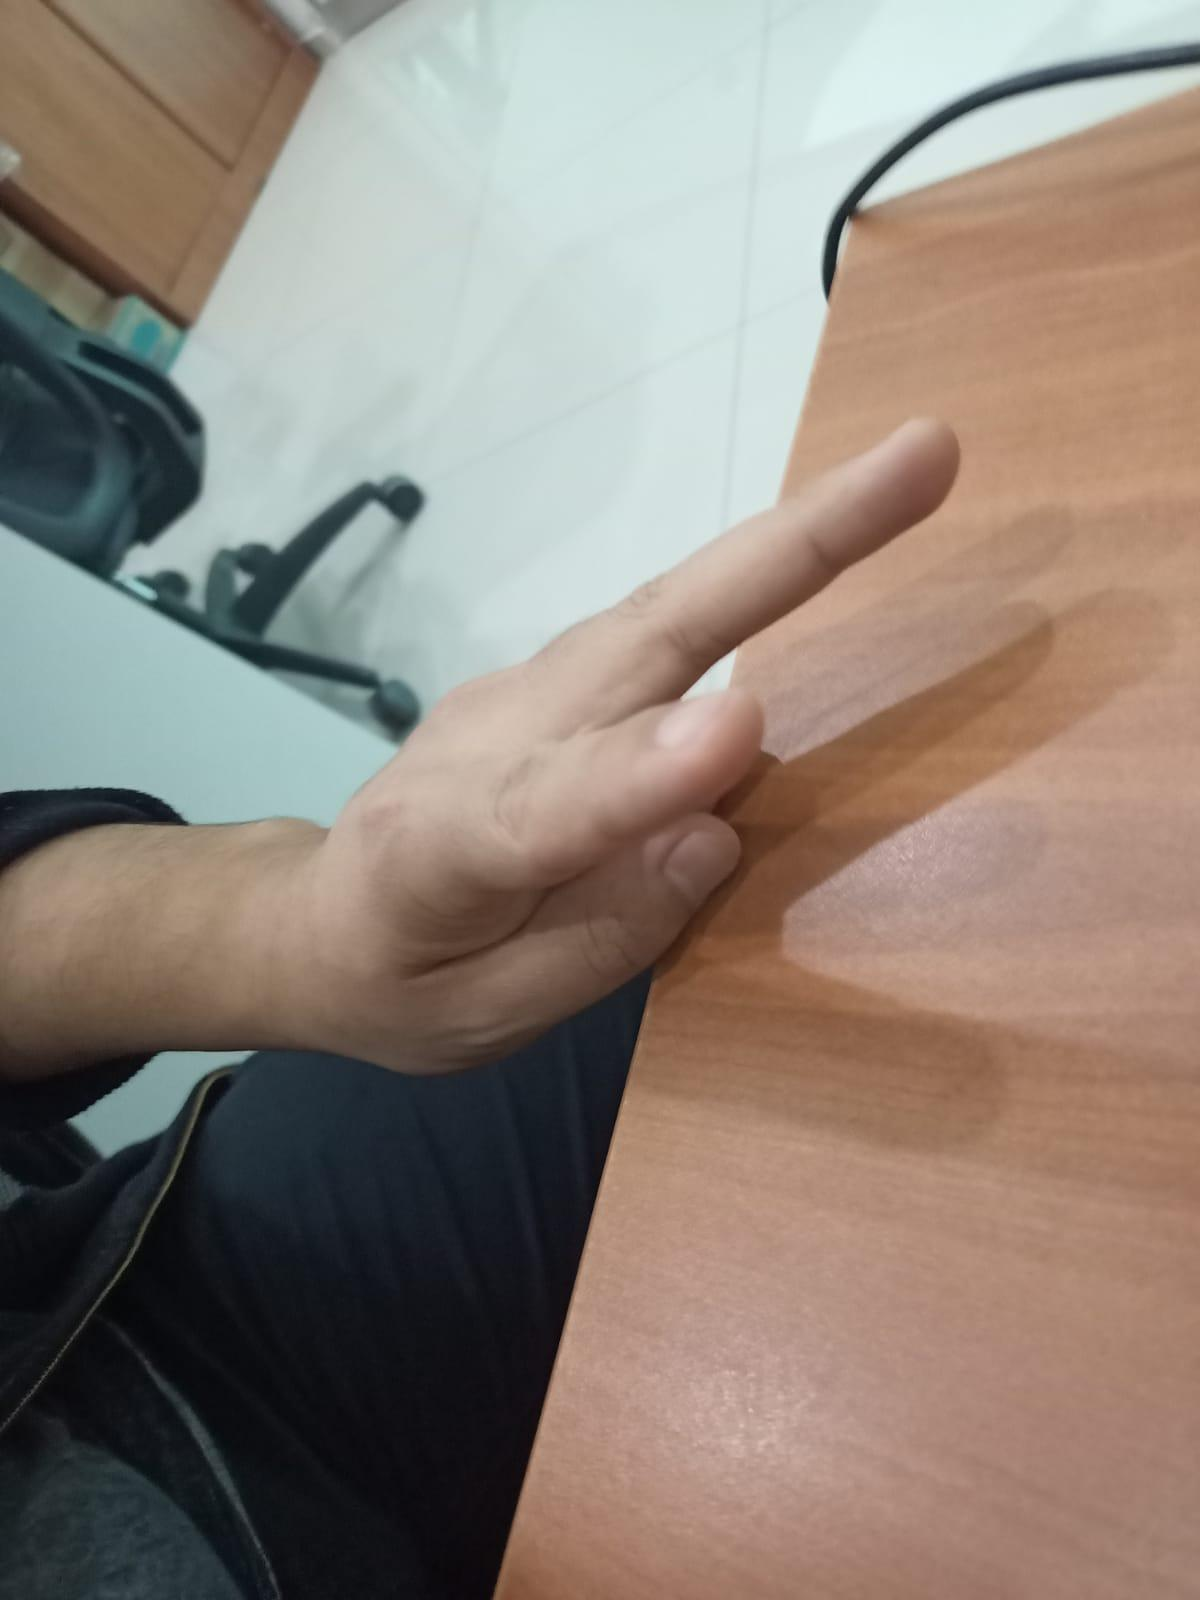Scissor: (276, 404, 978, 1100)
